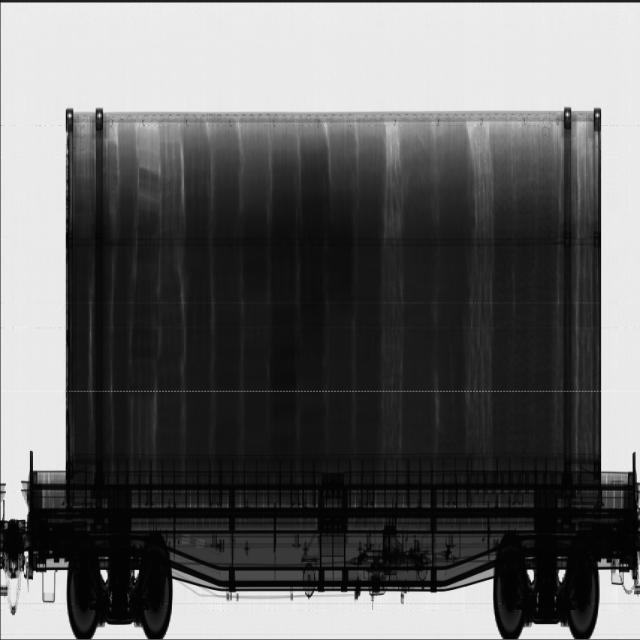clothes: (69, 119, 594, 462)
